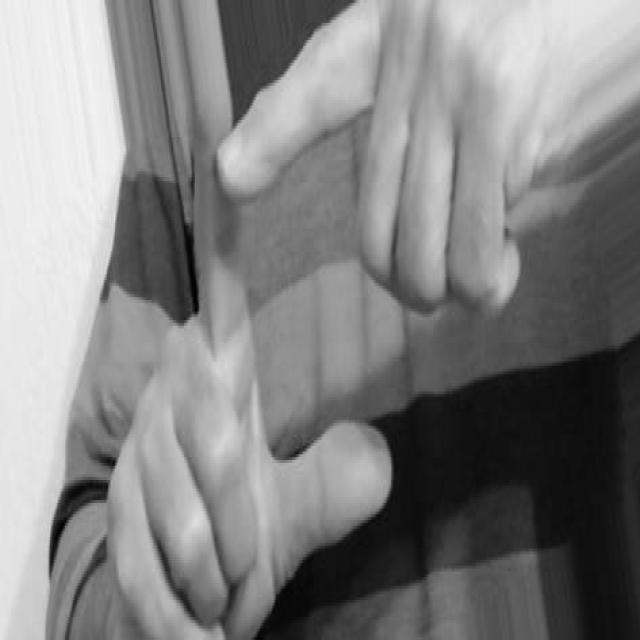J: (107, 3, 579, 640)
